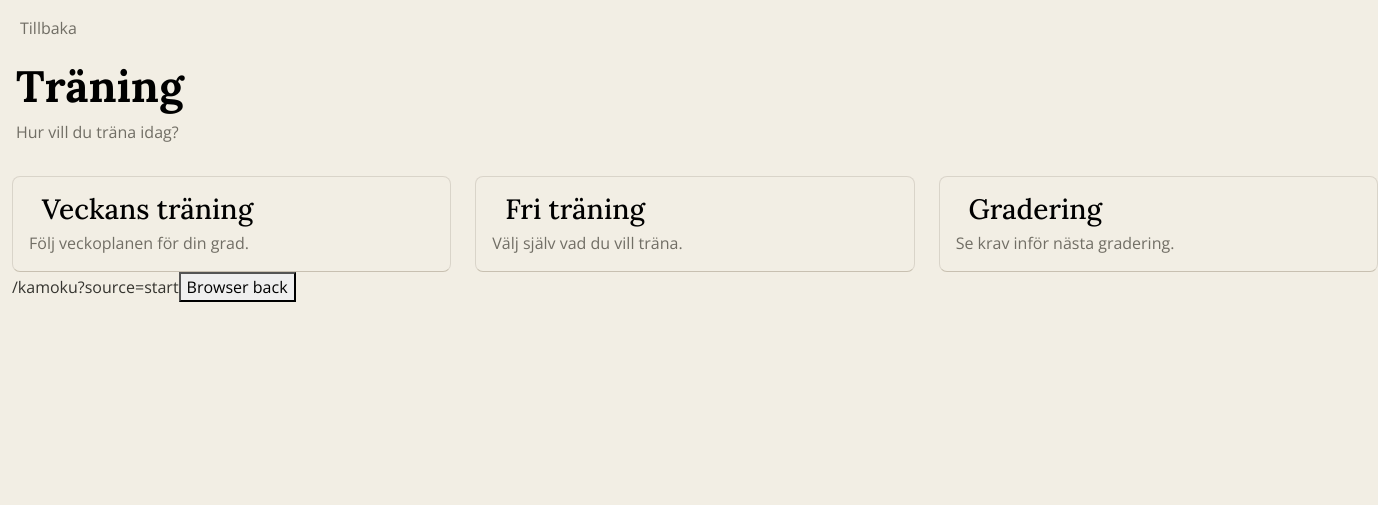
Test case: Training › opens free practice and keeps the selected area in the URL
This screenshot has width=1378, height=505.
Click the button "Fri träning Välj själv vad du vill träna.": x=575, y=209 [475, 176, 915, 272]
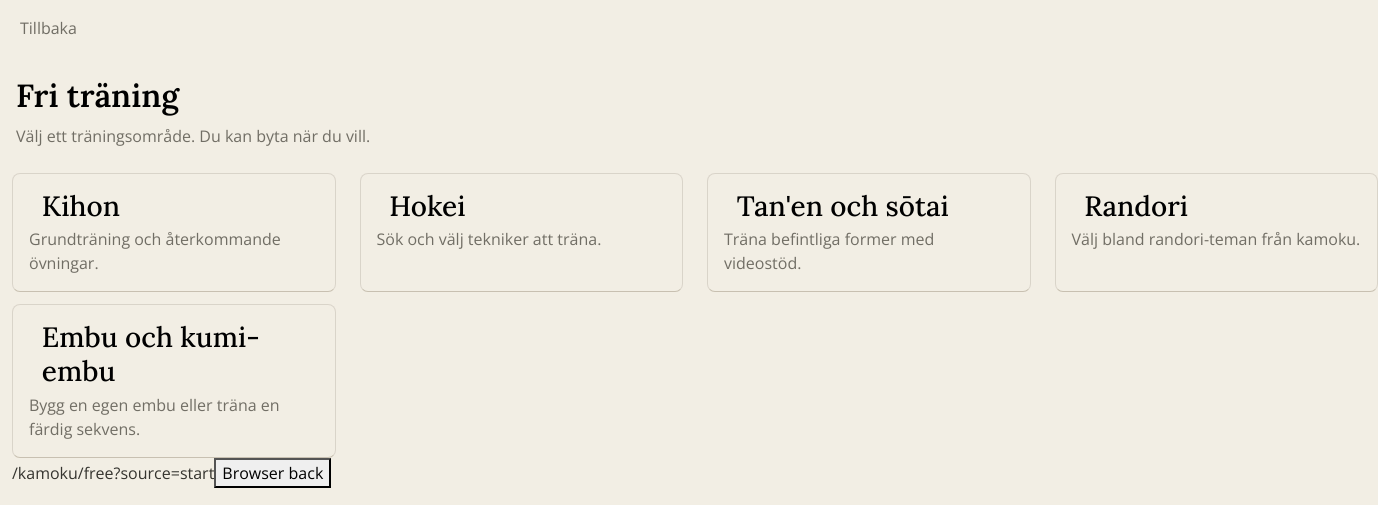
Expected: the heading "Fri träning" is shown, [16, 75, 179, 116]
Click the button "Randori Välj bland randori-teman från kamoku.": x=1216, y=233 [1054, 173, 1377, 292]
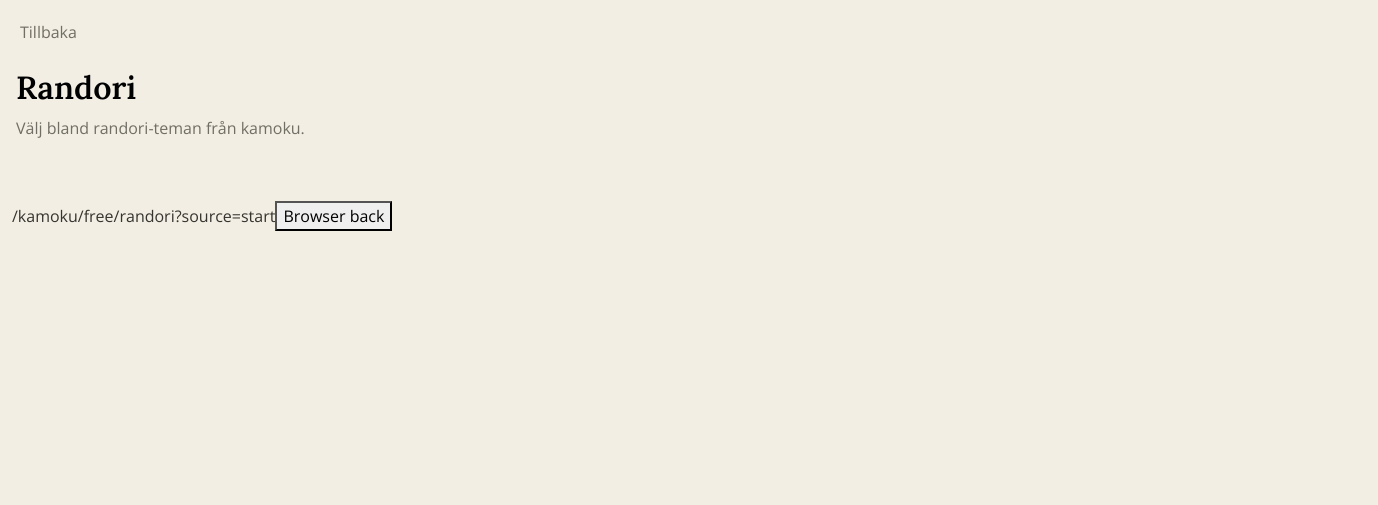
Expected: the button "Tillbaka" is shown, [12, 14, 77, 50]
Now the text with test id "location" reads "/kamoku/free/randori?source=start", box [12, 204, 276, 228]
